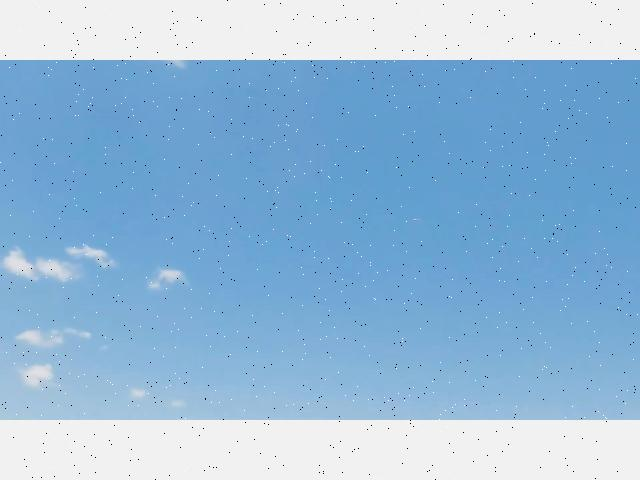Anti-Drone: (410, 214, 424, 224)
